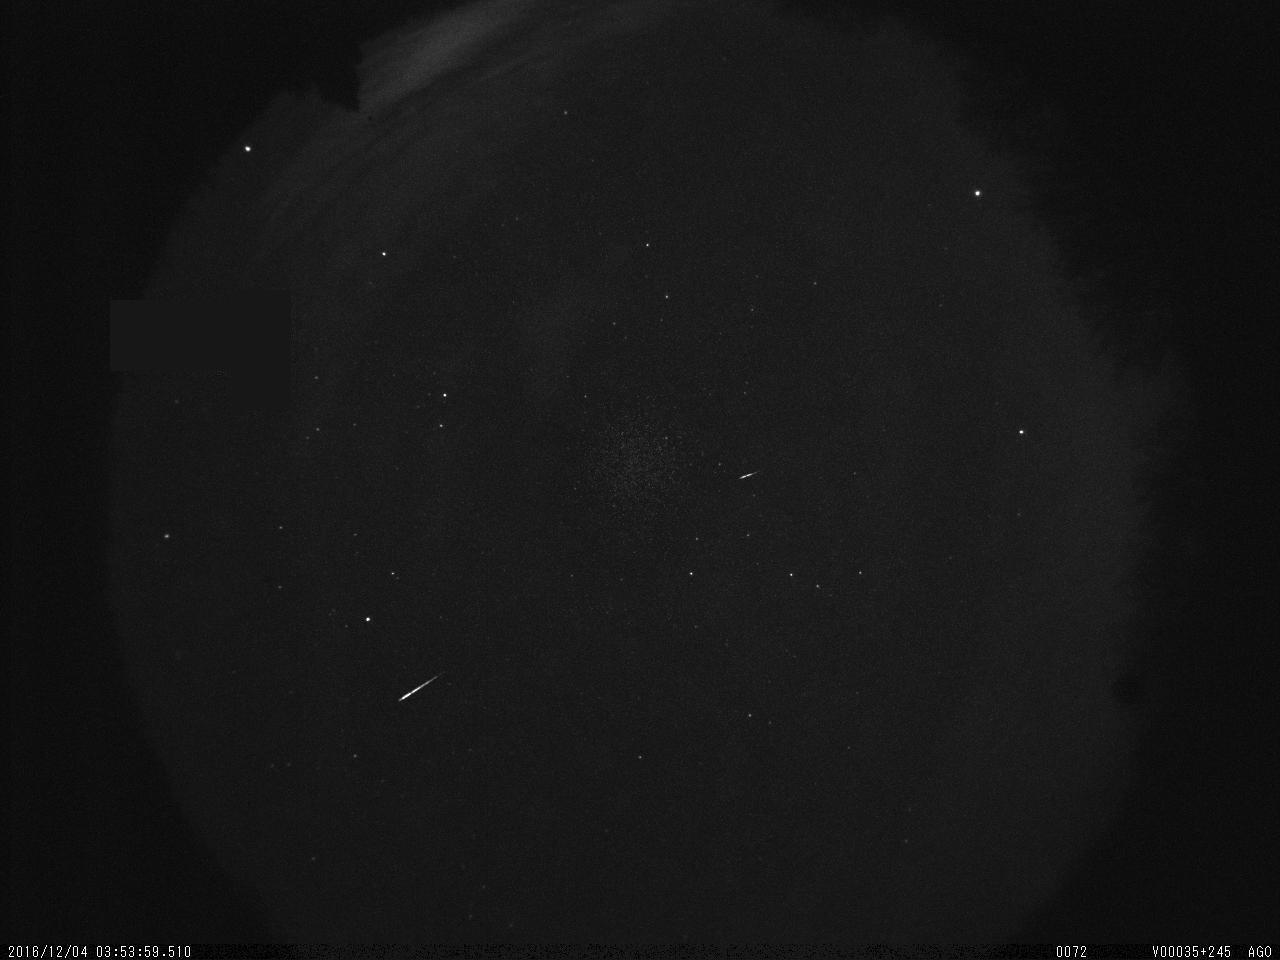meteor: (375, 641, 471, 720)
